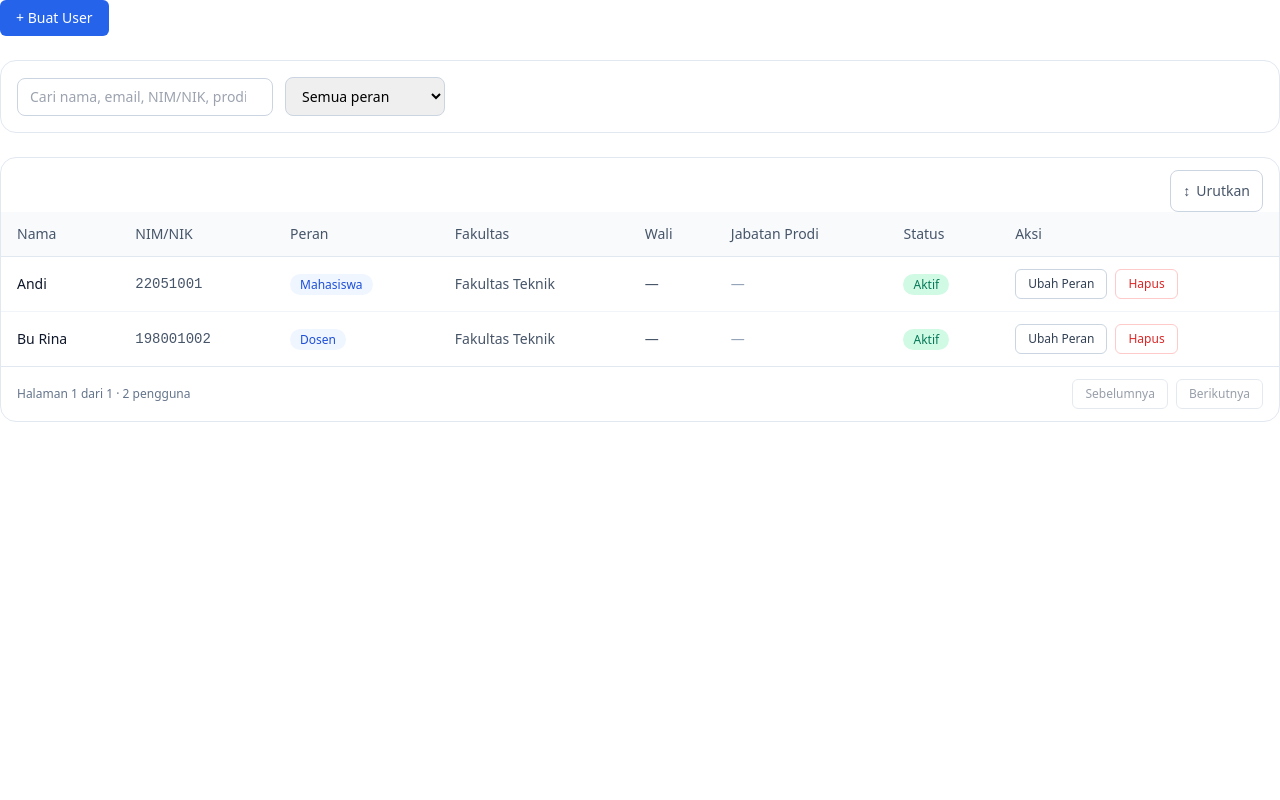
Test case: UsersPage (T1.11c) › NIM tidak terdaftar di master data → hint merah + tombol submit nonaktif
expect the text "Andi" is shown: met, box [1,256,119,312]
Click the button "+ Buat User" at [54, 18], box [0,0,109,36]
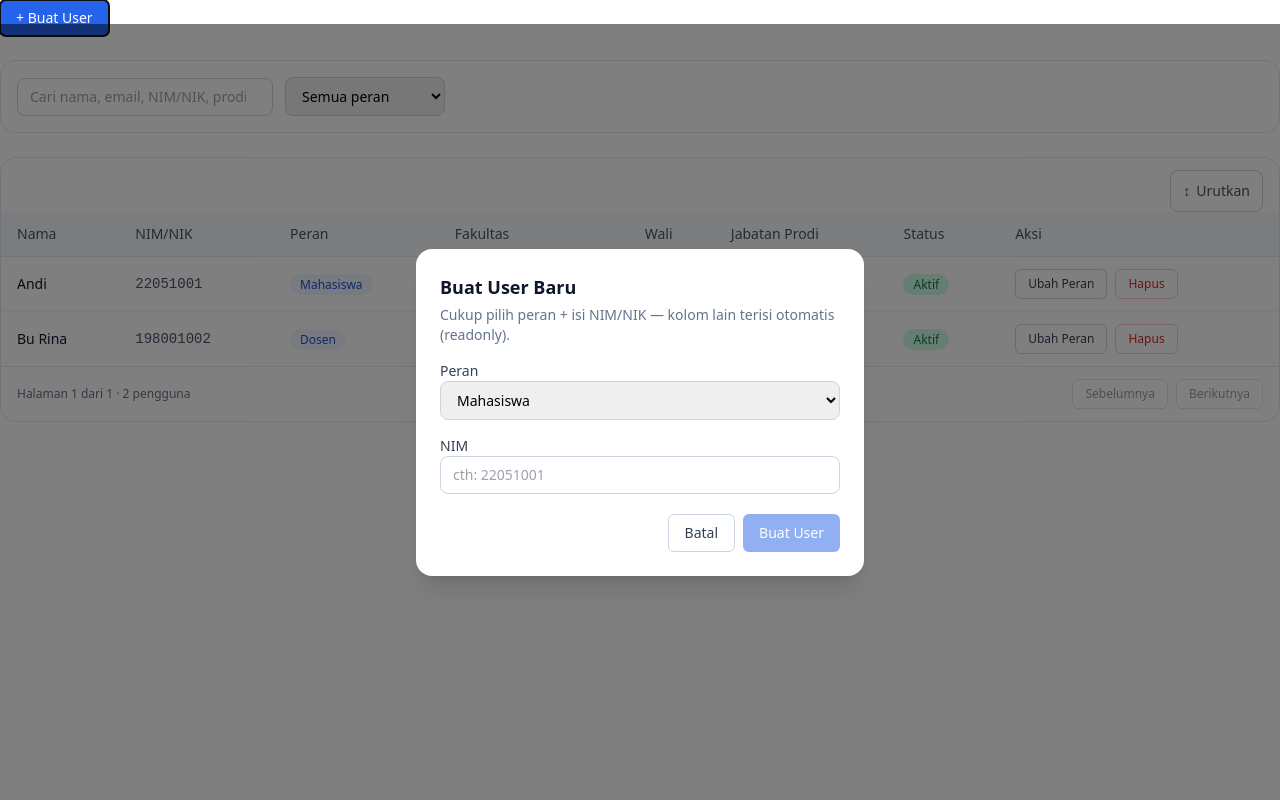
Type "9999999" into the field labelled "NIM" at [640, 474], box [440,456,840,494]
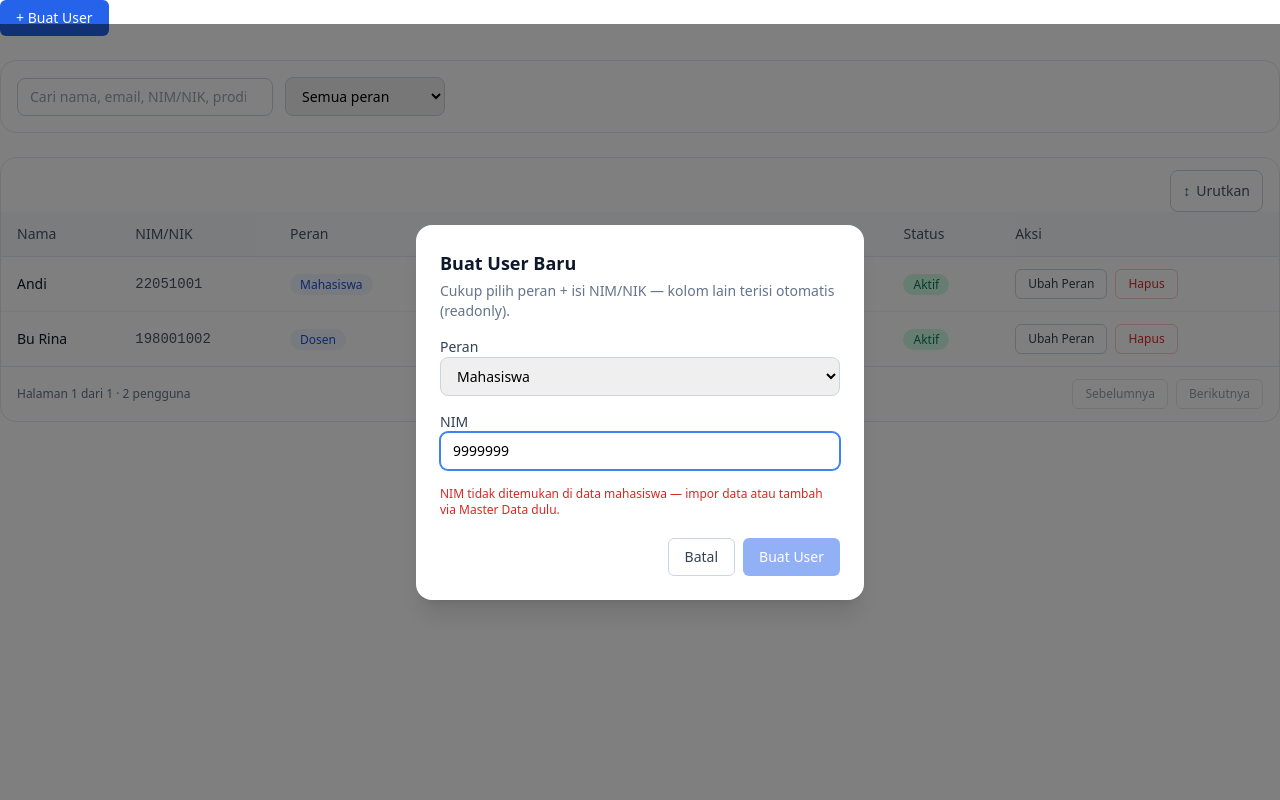
expect the button "Buat User" is disabled: met, box [743,538,840,576]
expect the text "NIM tidak ditemukan di data mahasiswa" is shown: met, box [440,486,840,518]
